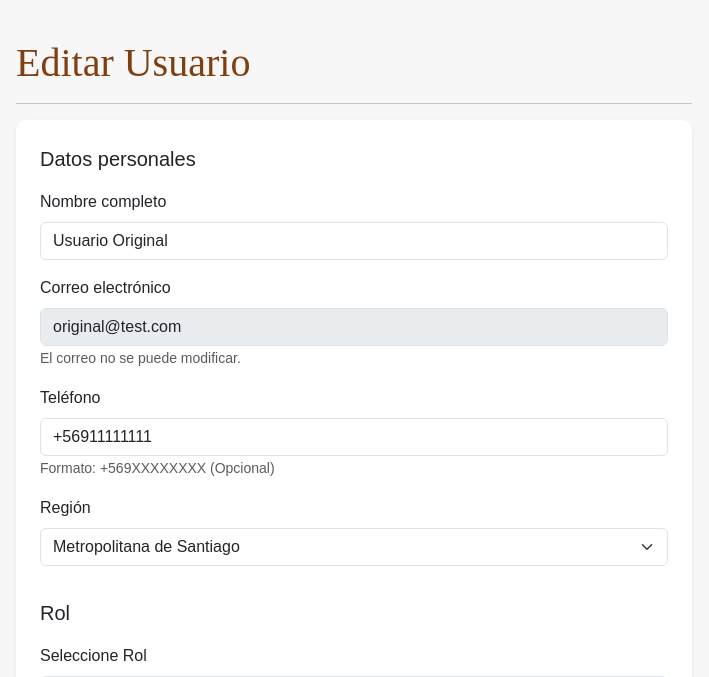
Scenario: Pruebas para EditUser › CP4: Debe mostrar error si el nombre está vacío
Clear the field labelled "Nombre completo". click: (354, 241)
box: [40, 222, 668, 260]
(page scrolled)
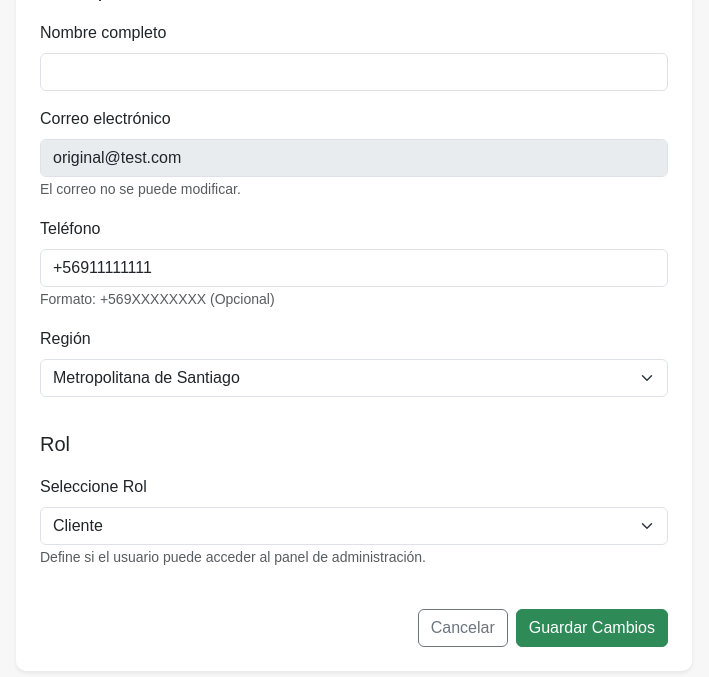
Submit the form from the button "Guardar Cambios", box [516, 609, 668, 647]
(page scrolled)
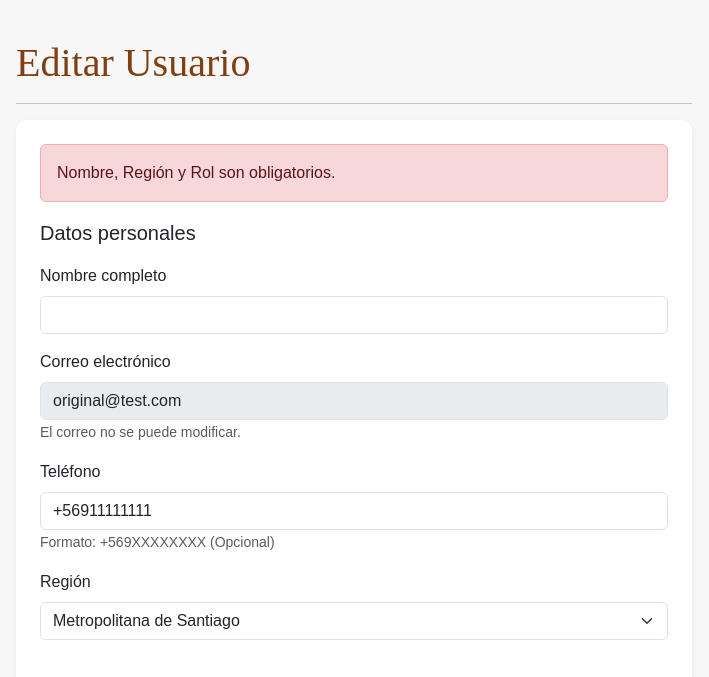
Check: the text "Nombre, Región y Rol son obligatorios." is shown, box [40, 144, 668, 202]
